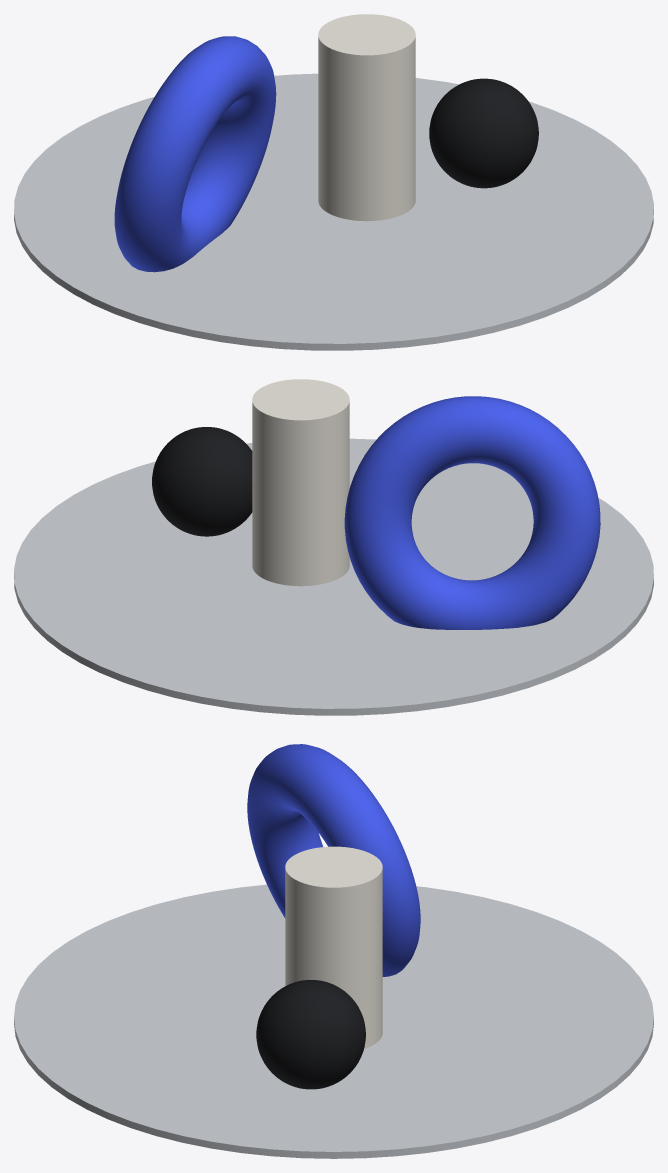
3 renders of one model, top to bottom at view 1: azimuth 30°, elevation 25°; view 2: azimuth 150°, elevation 25°; view 3: azimuth 270°, elevation 25°, orthographic.
Size of the model in its own units: 4.2 by 1.65 by 4.2.
